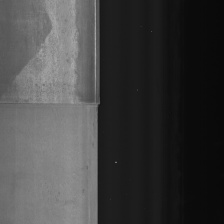welding_line: (0, 96, 102, 111)
